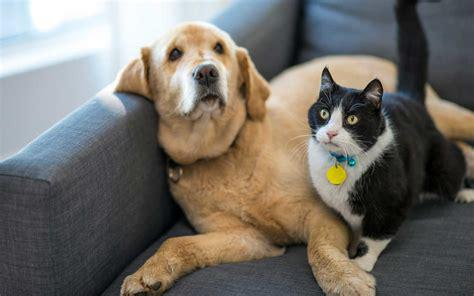cat: (308, 67, 474, 269)
dog: (117, 22, 473, 296)
